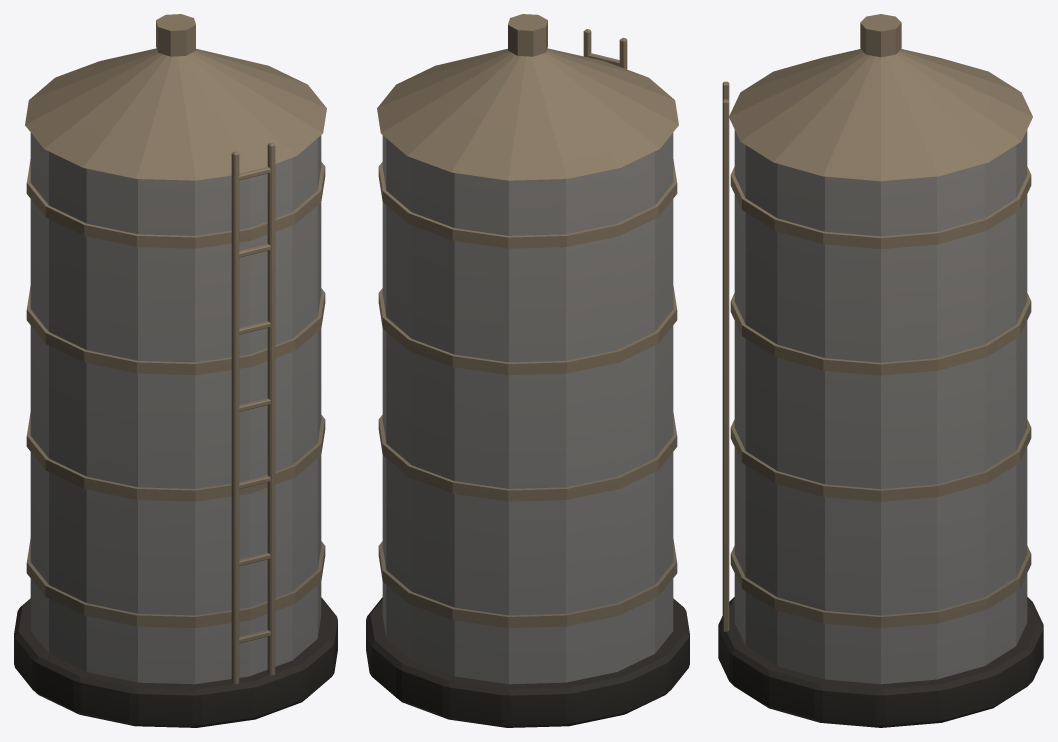
File: silo.d36fd82b29ac.glb
3 views of the same model, side by side, from view 1: azimuth 30°, elevation 25°; view 2: azimuth 150°, elevation 25°; view 3: azimuth 270°, elevation 25° (orthographic).
Visible parts, largest first — view 1: silo_body, silo_trim, silo_base; view 2: silo_body, silo_trim, silo_base; view 3: silo_body, silo_trim, silo_base.
Boxes of the visible parts, x1,y1,x2,y2 form: silo_body: (30,133,321,684); silo_trim: (25,14,326,684); silo_base: (14,597,337,727); silo_body: (382,133,673,684); silo_trim: (377,14,678,628); silo_base: (366,597,689,727); silo_body: (734,130,1027,684); silo_trim: (722,14,1032,631); silo_base: (718,597,1043,727).
Size of the model in its own units: 3.44 by 7.45 by 3.44.
